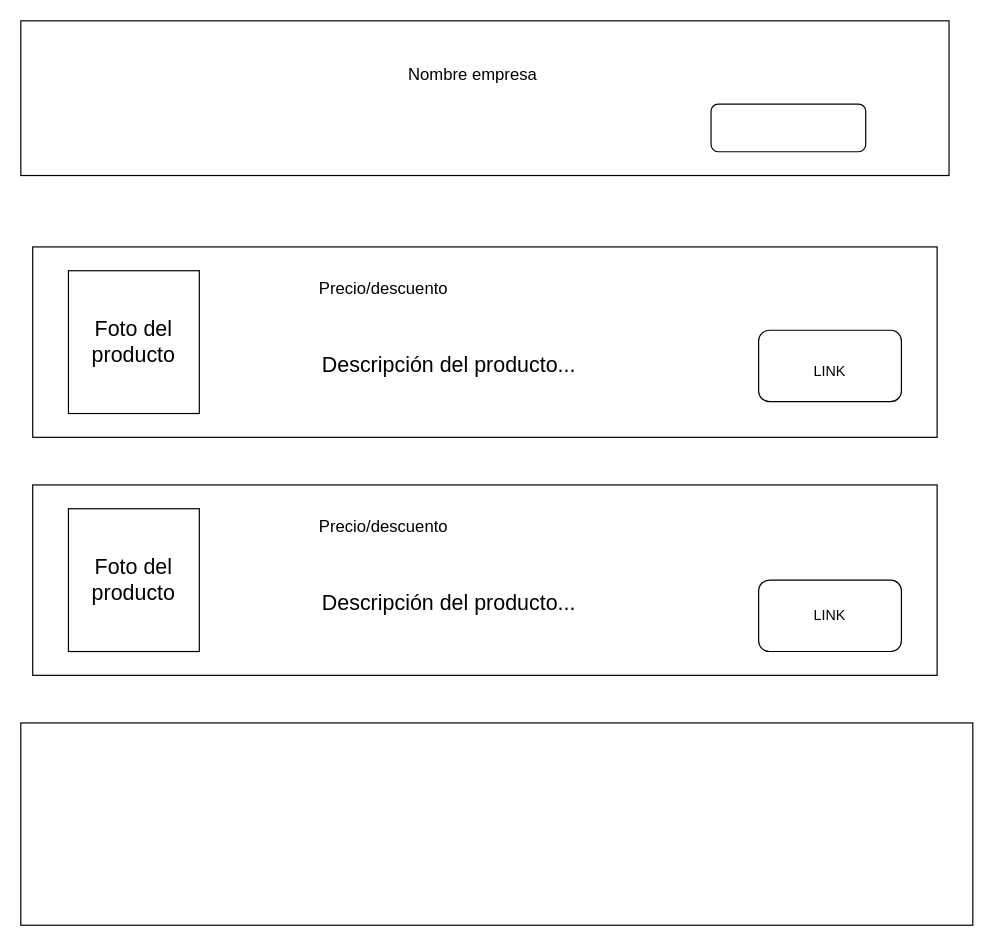
Image size: 994x946. Some labels were removed from this diagram. The box of each missing label's shape, as (x1, y1, x2, y2) in pixels:
Login/registro empresas: (710, 103, 866, 152)
Pie de página: (20, 722, 973, 925)
